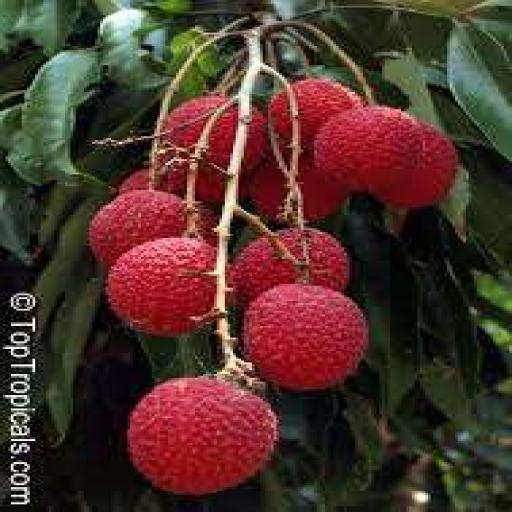lychee: (128, 378, 276, 494), (244, 284, 368, 389), (106, 238, 216, 335), (315, 108, 422, 193), (90, 190, 186, 266), (196, 106, 268, 203), (377, 123, 457, 209), (293, 79, 363, 147), (277, 229, 349, 289), (298, 156, 349, 220), (120, 169, 148, 193)
